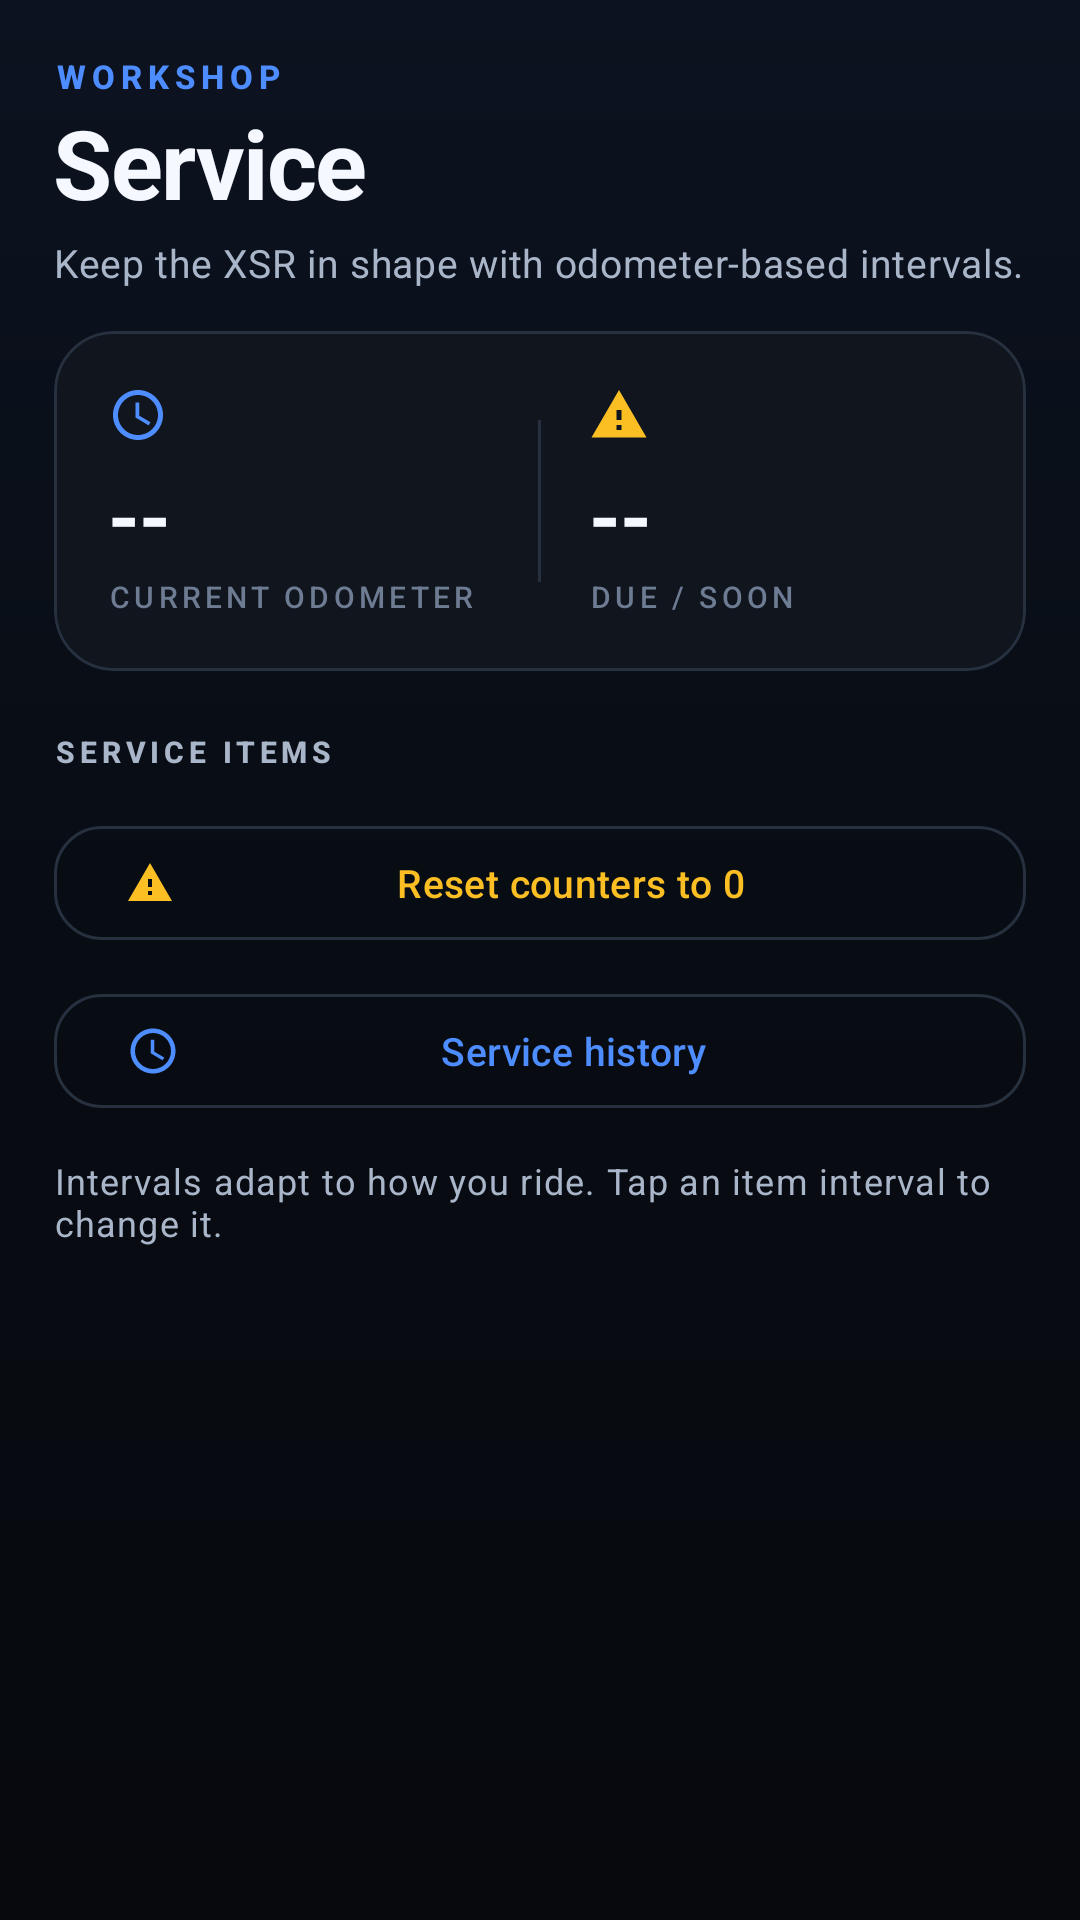

Screen size 1080w x 1920h. Icon name, then its box in pixels as (x1, y1, x2, y2):
warning: (591, 390, 647, 438)
